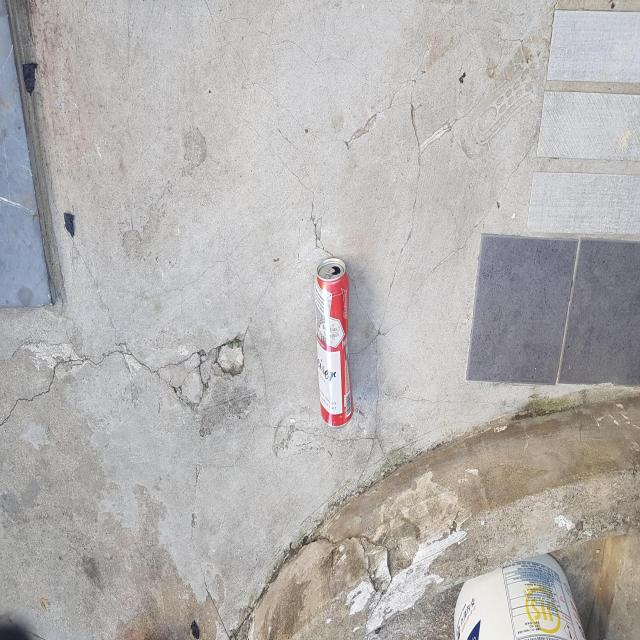can: (315, 256, 354, 427)
